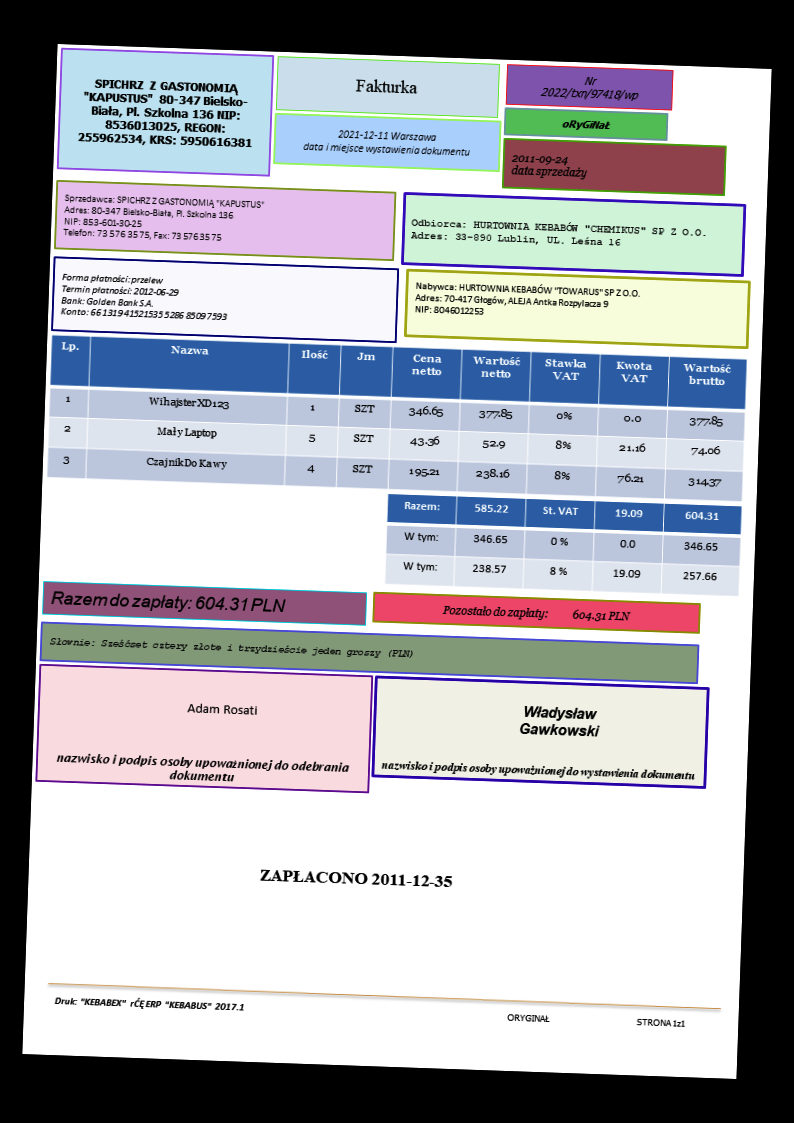Table: (46, 335, 747, 503), (384, 493, 742, 597)
TextBox: (75, 76, 256, 150), (409, 215, 709, 252), (53, 750, 350, 787), (62, 192, 266, 245), (47, 634, 417, 661), (412, 280, 643, 323), (59, 271, 230, 323), (379, 758, 697, 785), (47, 588, 290, 618), (299, 126, 472, 159), (257, 865, 456, 891), (439, 602, 632, 625), (52, 994, 247, 1014), (536, 72, 641, 105), (518, 701, 602, 739), (508, 153, 589, 182), (353, 77, 419, 97), (184, 701, 259, 717), (559, 116, 612, 134), (634, 1017, 686, 1030), (504, 1011, 551, 1025)
